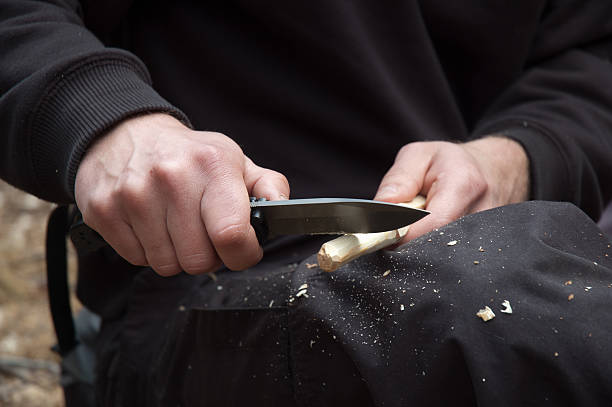knife: (247, 198, 433, 250)
